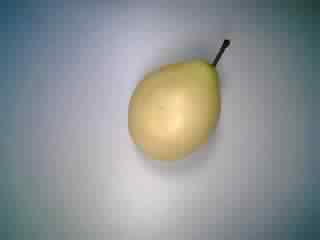pear: (111, 36, 245, 169)
